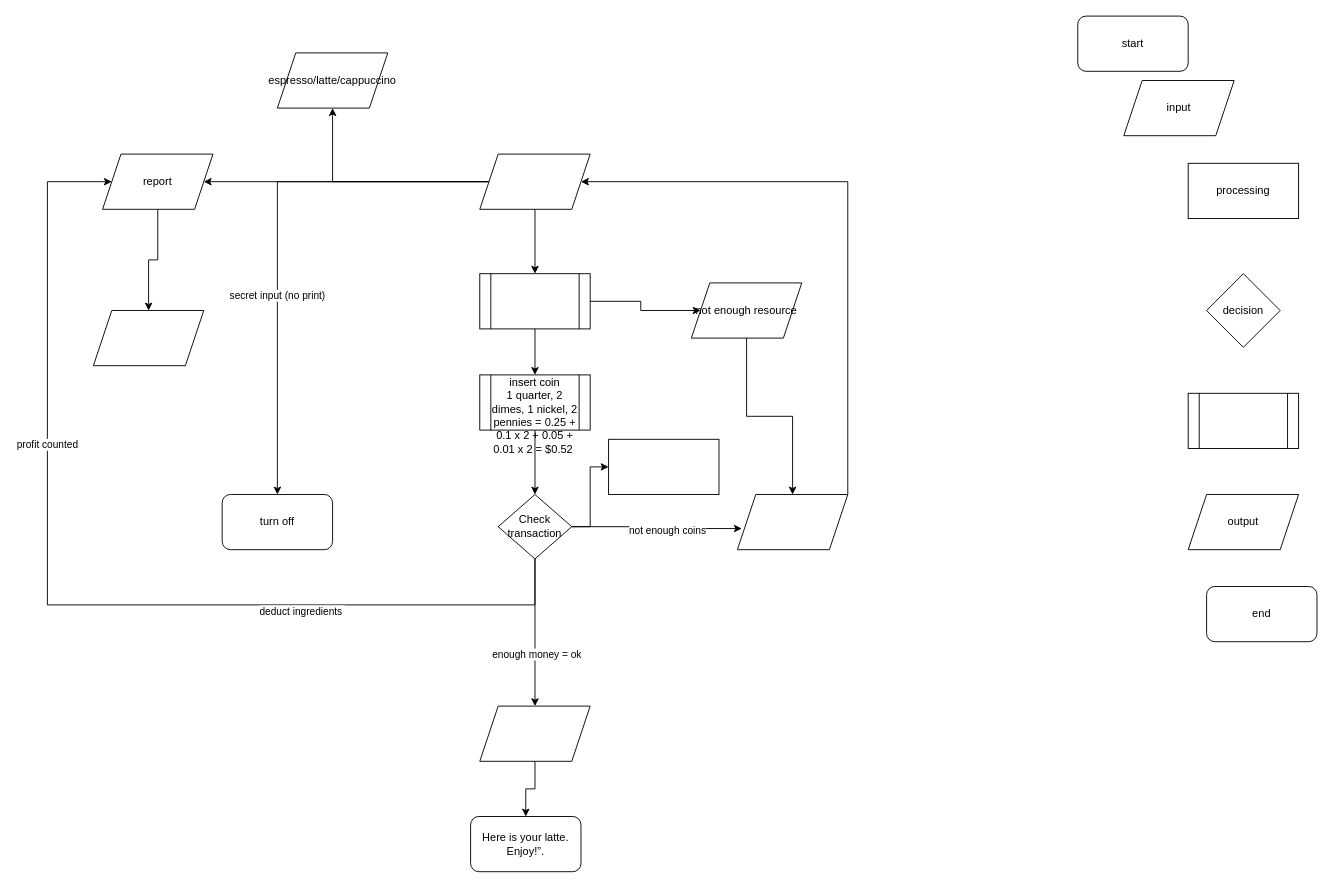
This 1333x888 diagram has some shape labels left out. The centre of each missing label's shape, as x and y in pixels:
"Check resources" belongs at (534,301).
"done making" belongs at (792,522).
"Make Coffee." belongs at (534,733).
"offer change. Here is $2.45 dollars in change" belongs at (663,466).
"procedure call" belongs at (1243,420).
"Water: 100ml Milk: 50ml Coffee: 76g Money: $2.5" belongs at (148,338).
"What would you like?" belongs at (534,181).
